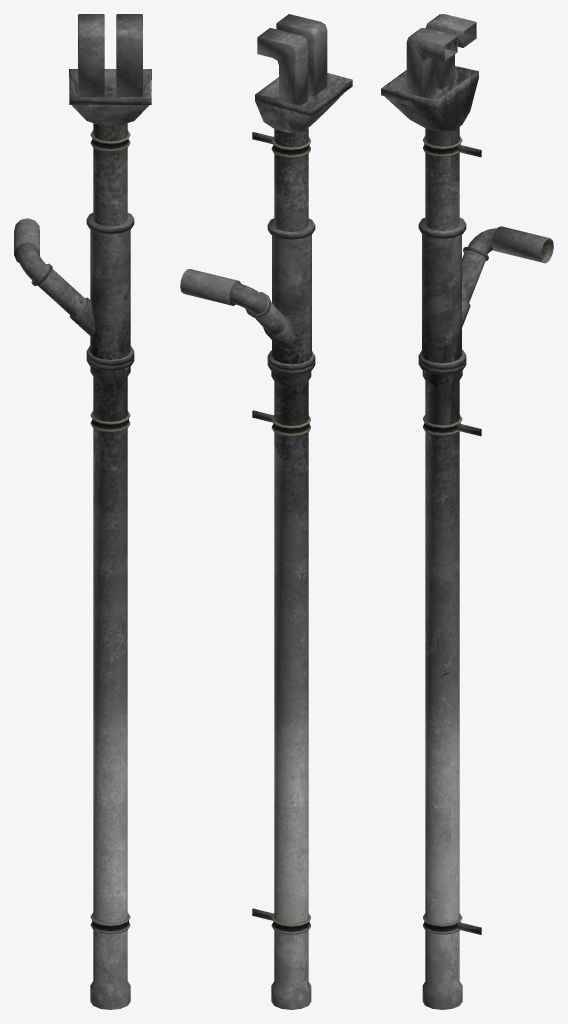
The model's file is SM_drainage_pole.fbx.
3 renders of one model, left to right at view 1: azimuth 90°, elevation 25°; view 2: azimuth 150°, elevation 25°; view 3: azimuth 330°, elevation 25°, orthographic.
Visible parts, largest first — view 1: SM_drainage_pole; view 2: SM_drainage_pole; view 3: SM_drainage_pole.
Boxes of the visible parts, box(x1,y1,x2,y2) form: SM_drainage_pole: box(14, 14, 151, 1009); SM_drainage_pole: box(180, 14, 352, 1009); SM_drainage_pole: box(381, 14, 553, 1009).
Size of the model in its own units: 49.08 by 55.71 by 437.
Materials: 1 (1 with a texture image).
